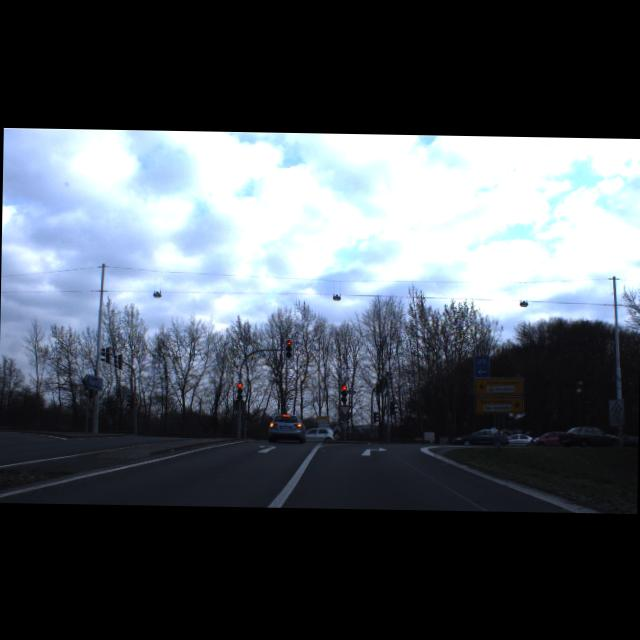other: (338, 404, 352, 417)
